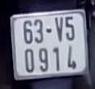0: (22, 48, 36, 75)
1: (51, 45, 62, 73)
3: (34, 17, 45, 45)
4: (65, 44, 78, 70)
5: (65, 16, 78, 42)
6: (21, 18, 34, 45)
9: (37, 46, 49, 73)
V: (53, 15, 65, 43)
